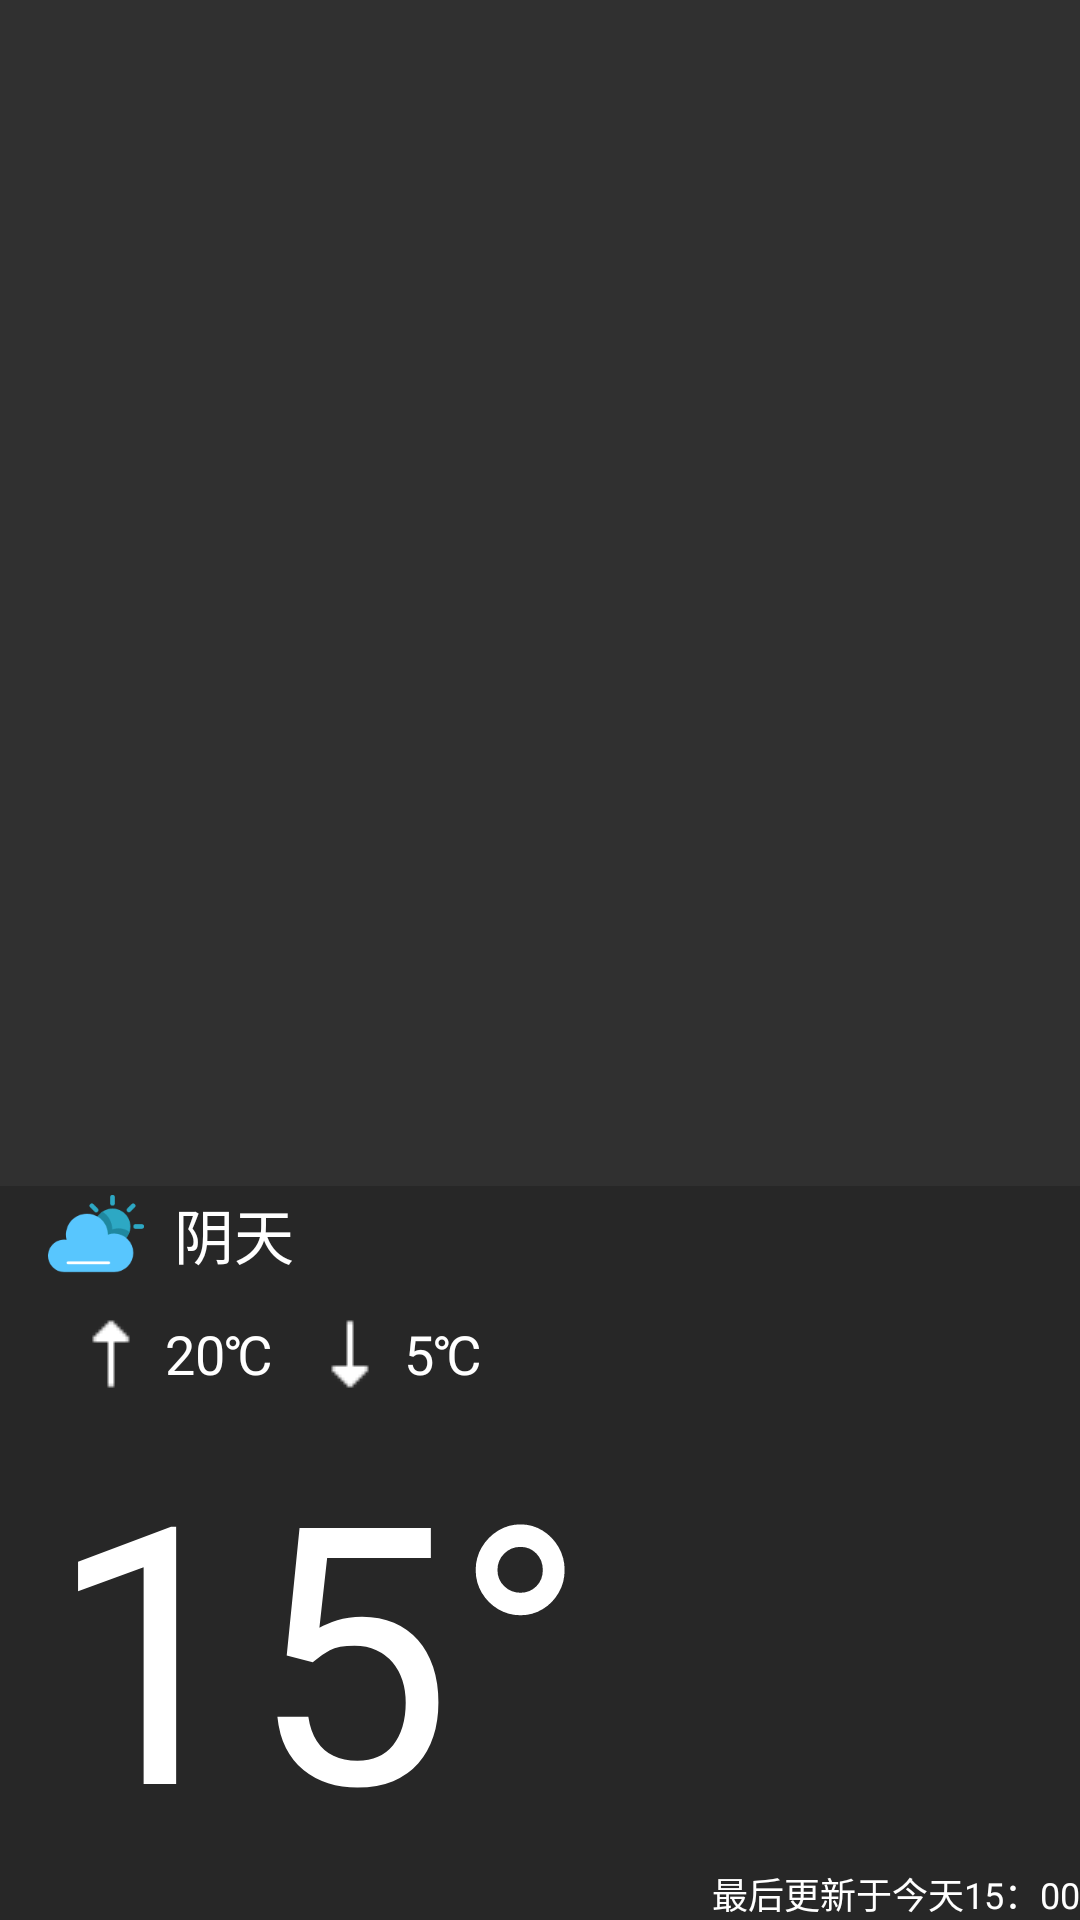

Named icons in this screenshot (1080*1920) and their centers, point (x, y):
down: point (350, 1354)
